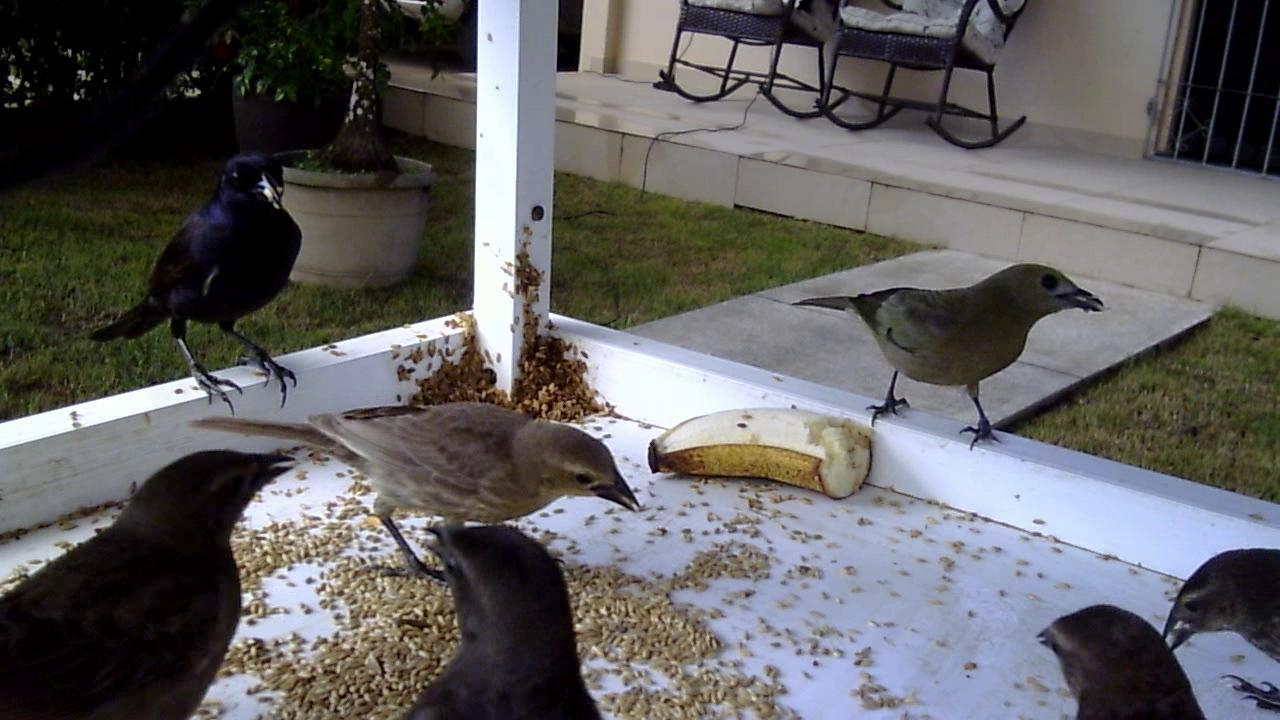chupim: (4, 437, 313, 720), (231, 398, 628, 584), (75, 144, 316, 426), (394, 510, 613, 720), (1019, 571, 1240, 715), (1144, 534, 1280, 718)
sanhaco_do_coqueiro: (778, 241, 1105, 471)
